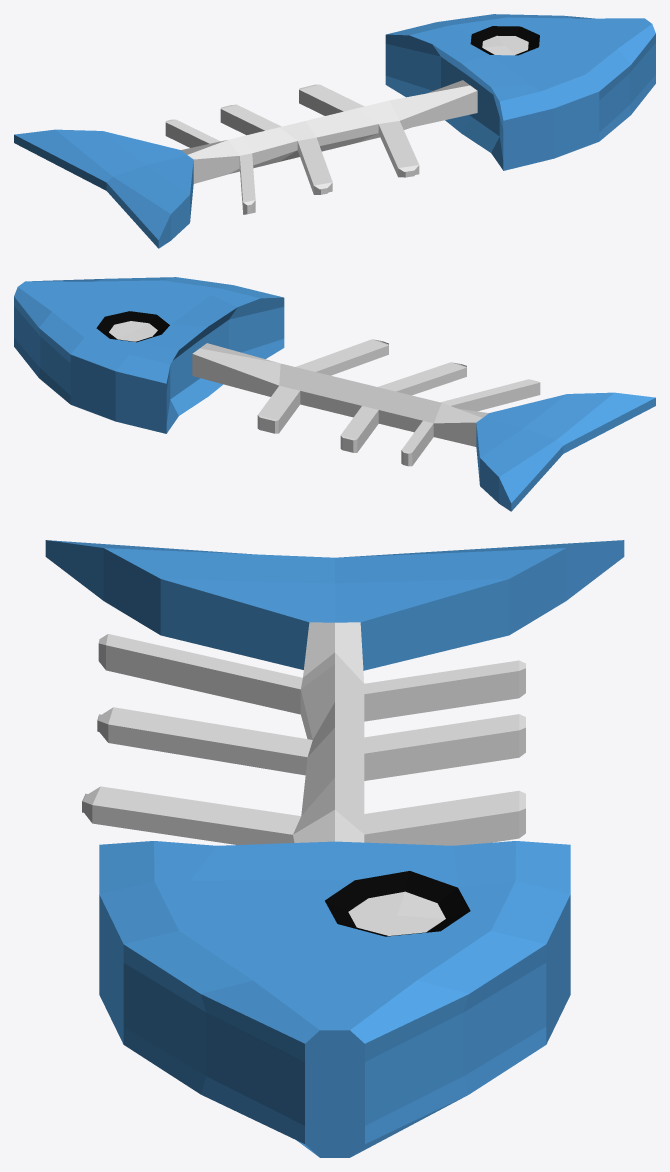
The model's file is FishTrash.fbx.
3 views of the same model, one above another, from view 1: azimuth 30°, elevation 25°; view 2: azimuth 150°, elevation 25°; view 3: azimuth 270°, elevation 25° (orthographic). The views are drawn at different scales.
Parts seen in each view (by area): view 1: Cube.001; view 2: Cube.001; view 3: Cube.001.
Part boxes in pixels (<box>): Cube.001: <box>14,14,655,248</box>; Cube.001: <box>14,277,655,511</box>; Cube.001: <box>45,540,624,1157</box>.
Bounding box in the file's own units: 1201 × 143 × 535.
